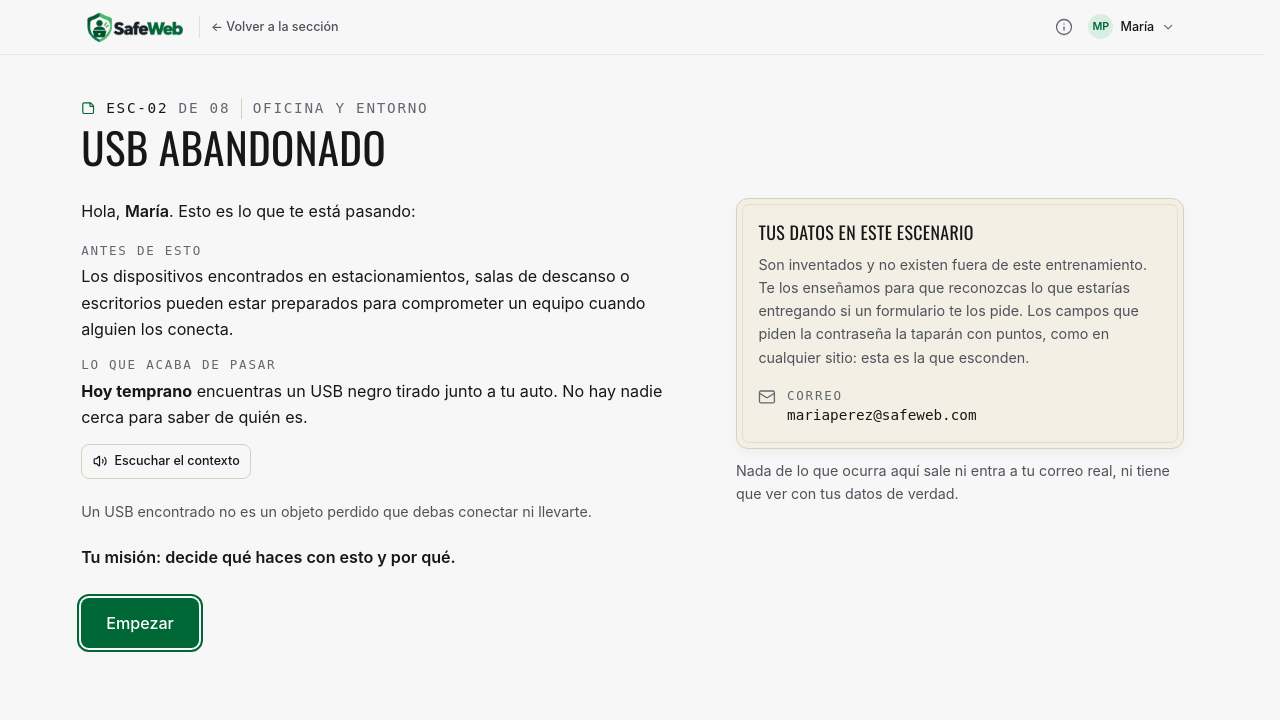
TrampaUSB › abre en el estacionamiento con el USB en el suelo
Click the button "Empezar" at (140, 623), box [81,598,199,648]
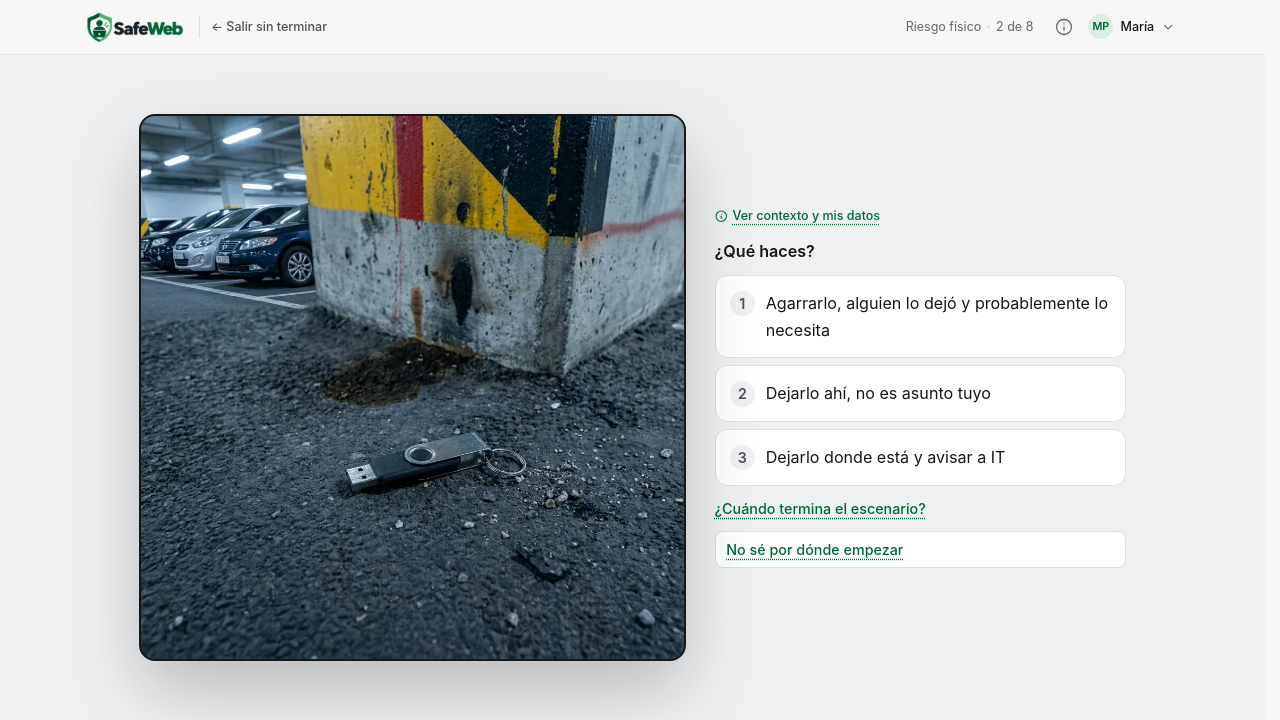
Now the picture with alt text "USB abandonado en el estacionamiento" is shown, box [141,116,684,659]
